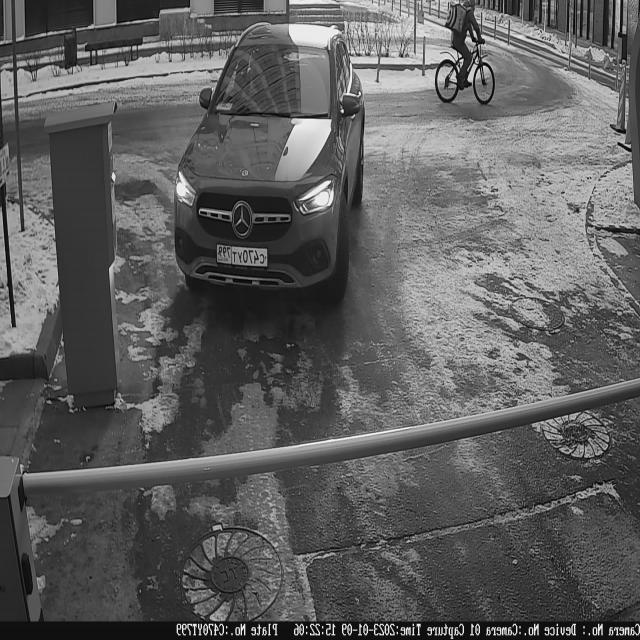car-plate-numbers: (214, 242, 272, 278)
